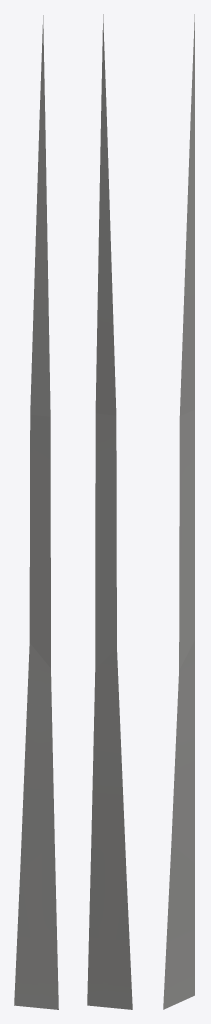
3 renders of one model, left to right at view 1: azimuth 30°, elevation 25°; view 2: azimuth 210°, elevation 25°; view 3: azimuth 270°, elevation 25°, orthographic.
Size of the model in its own units: 0.0046 by 0.1488 by 0.00429.
1 material, 1 textured.
